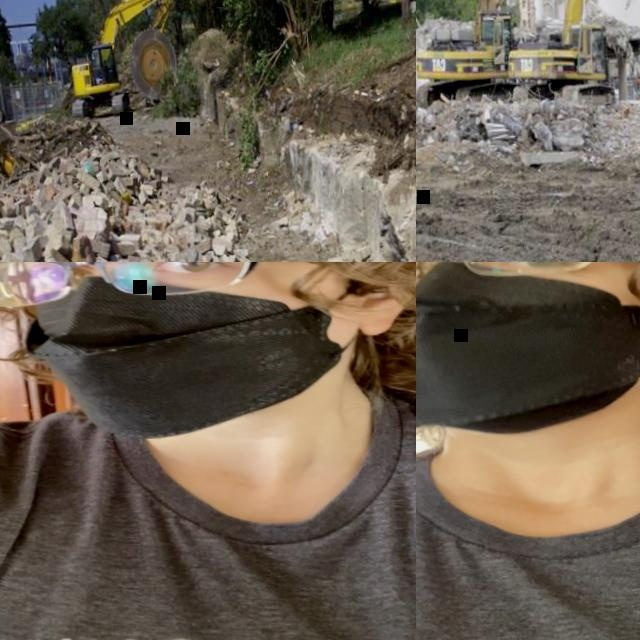Mask: (19, 262, 385, 450), (416, 262, 640, 441)
NO-Safety Vest: (0, 395, 416, 640), (416, 425, 640, 640)
Person: (0, 262, 416, 640), (416, 262, 640, 640)
machinery: (416, 0, 622, 109), (499, 0, 640, 111), (63, 0, 185, 120)
